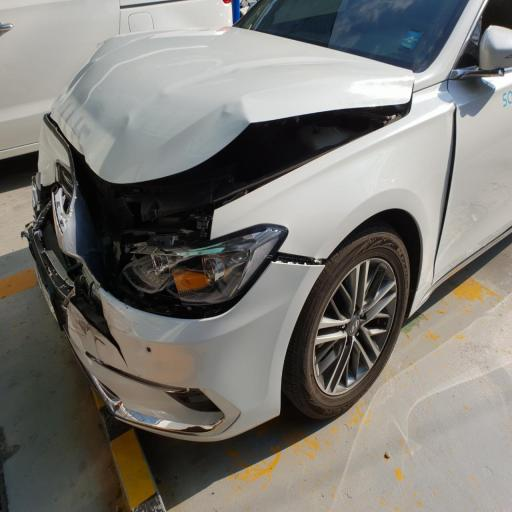broken: (168, 163, 351, 330), (19, 159, 137, 357)
dent: (88, 45, 276, 148)
